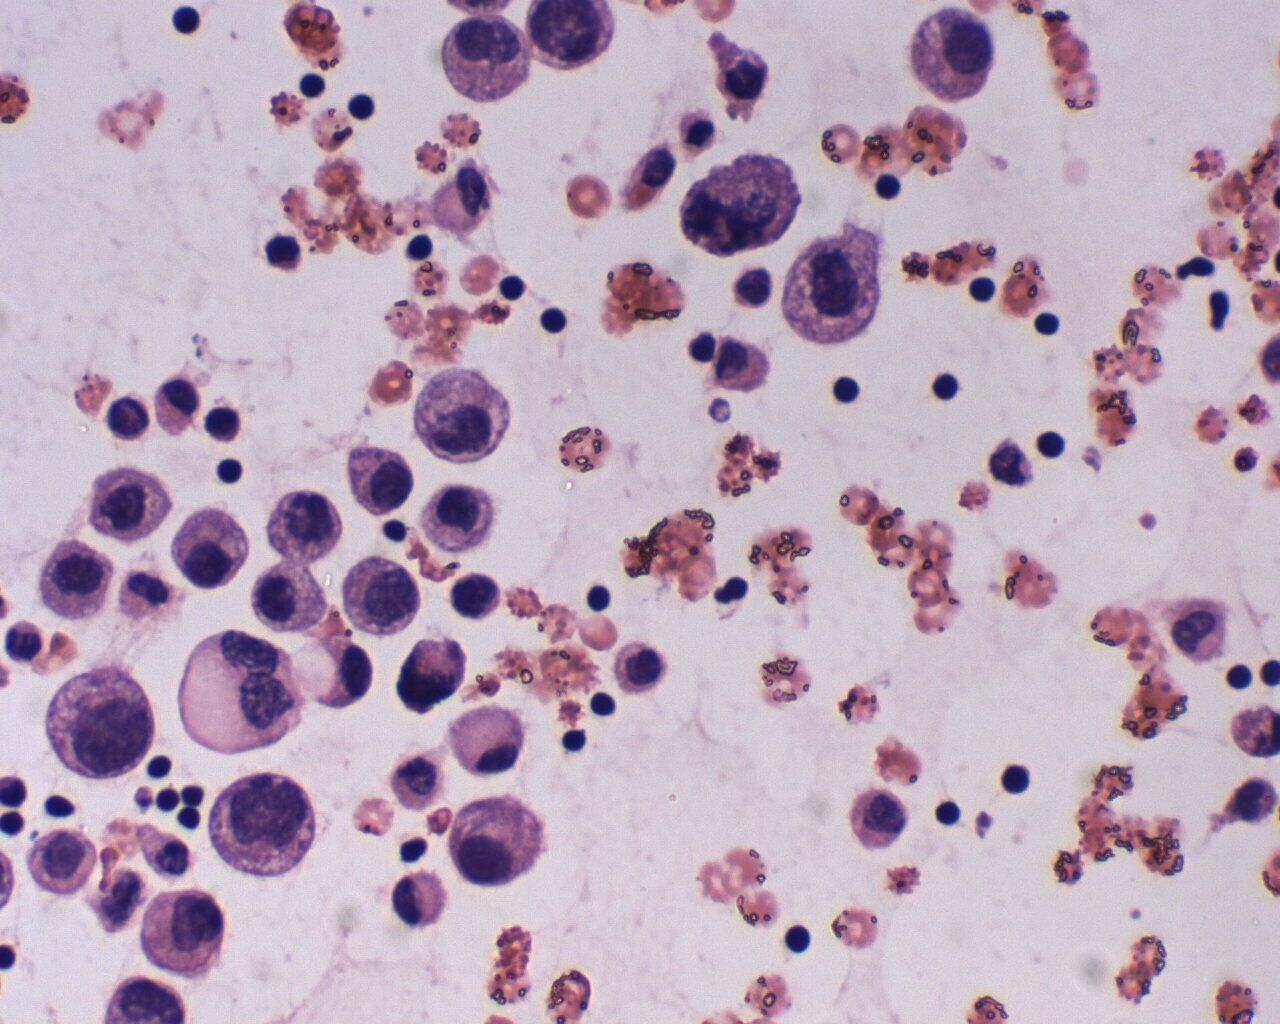ab: (779, 225, 897, 347), (41, 660, 156, 779), (209, 767, 319, 881), (135, 886, 232, 984), (31, 535, 124, 623), (339, 549, 422, 637), (87, 468, 178, 544), (338, 434, 418, 517), (265, 484, 345, 566), (417, 481, 498, 558)
lymph: (997, 754, 1042, 802), (827, 369, 863, 408), (1027, 306, 1067, 341), (869, 168, 905, 200)
meso: (448, 706, 532, 778), (23, 825, 102, 899), (383, 870, 452, 930)
